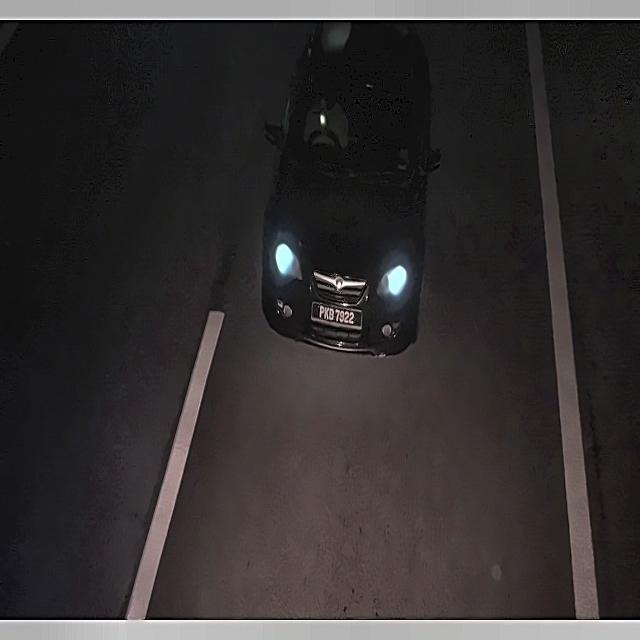car: (311, 300, 361, 334)
